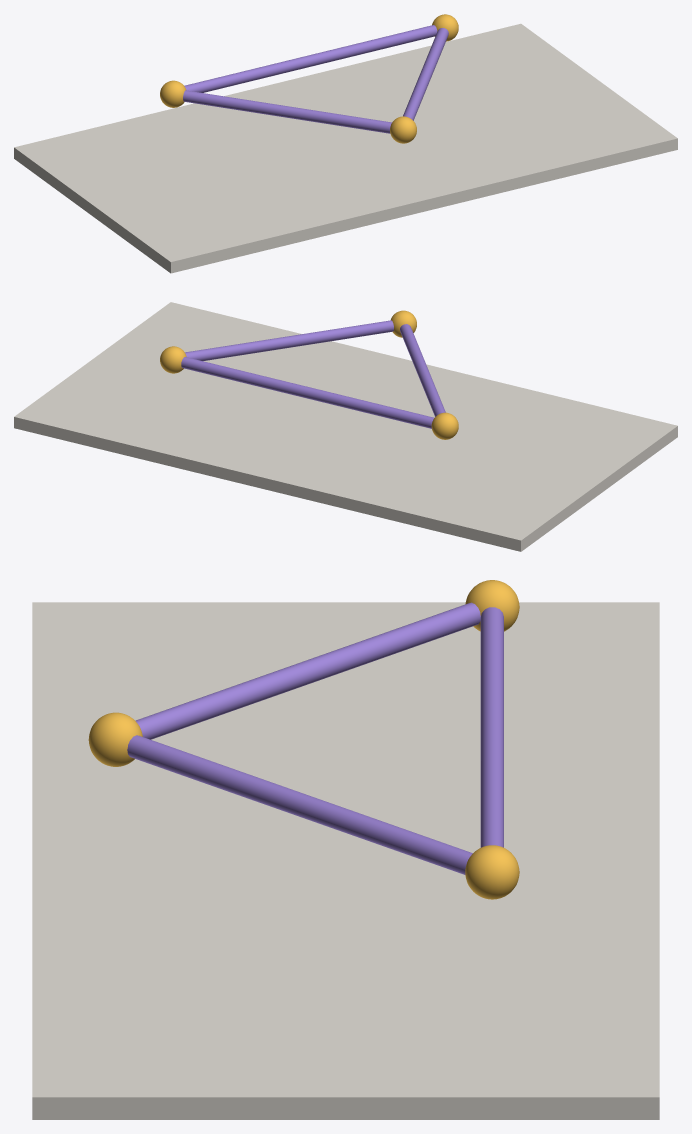
Rendered from math-geometry-triangle.glb.
3 renders of one model, top to bottom at view 1: azimuth 30°, elevation 25°; view 2: azimuth 150°, elevation 25°; view 3: azimuth 270°, elevation 25°, orthographic. The views are drawn at different scales.
Parts seen in each view (by area): view 1: manipulative-base, triangle-side-1, triangle-side-3, triangle-side-2, triangle-vertex-3, triangle-vertex-1, triangle-vertex-2; view 2: manipulative-base, triangle-side-1, triangle-side-2, triangle-side-3, triangle-vertex-1, triangle-vertex-2, triangle-vertex-3; view 3: manipulative-base, triangle-side-2, triangle-side-3, triangle-side-1, triangle-vertex-2, triangle-vertex-3, triangle-vertex-1.
Part boxes in pixels (bbox=[...]): manipulative-base: bbox=[14, 23, 677, 273]; triangle-side-1: bbox=[184, 25, 437, 92]; triangle-side-3: bbox=[183, 90, 391, 133]; triangle-side-2: bbox=[403, 28, 448, 120]; triangle-vertex-3: bbox=[390, 116, 416, 143]; triangle-vertex-1: bbox=[160, 80, 186, 107]; triangle-vertex-2: bbox=[432, 14, 458, 41]; manipulative-base: bbox=[14, 302, 677, 551]; triangle-side-1: bbox=[181, 357, 434, 428]; triangle-side-2: bbox=[185, 320, 393, 360]; triangle-side-3: bbox=[400, 324, 445, 416]; triangle-vertex-1: bbox=[431, 412, 458, 439]; triangle-vertex-2: bbox=[160, 346, 186, 373]; triangle-vertex-3: bbox=[391, 310, 416, 337]; manipulative-base: bbox=[32, 602, 659, 1119]; triangle-side-2: bbox=[127, 735, 472, 874]; triangle-side-3: bbox=[135, 602, 480, 739]; triangle-side-1: bbox=[480, 607, 503, 847]; triangle-vertex-2: bbox=[465, 845, 519, 899]; triangle-vertex-3: bbox=[88, 712, 142, 766]; triangle-vertex-1: bbox=[465, 580, 519, 631].
Size of what is drawn, in the model's own units: 2.8 by 0.415 by 1.5.
